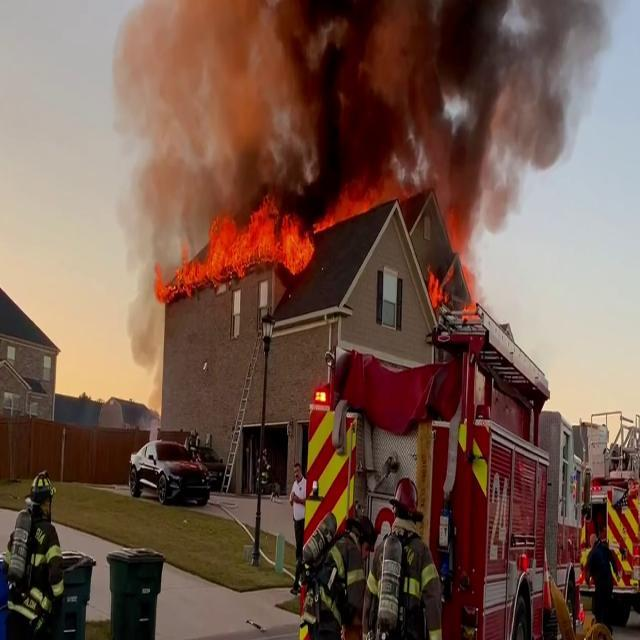Fire: (178, 195, 316, 286), (332, 182, 376, 227), (424, 258, 451, 328)
Smoke: (102, 0, 592, 220)
